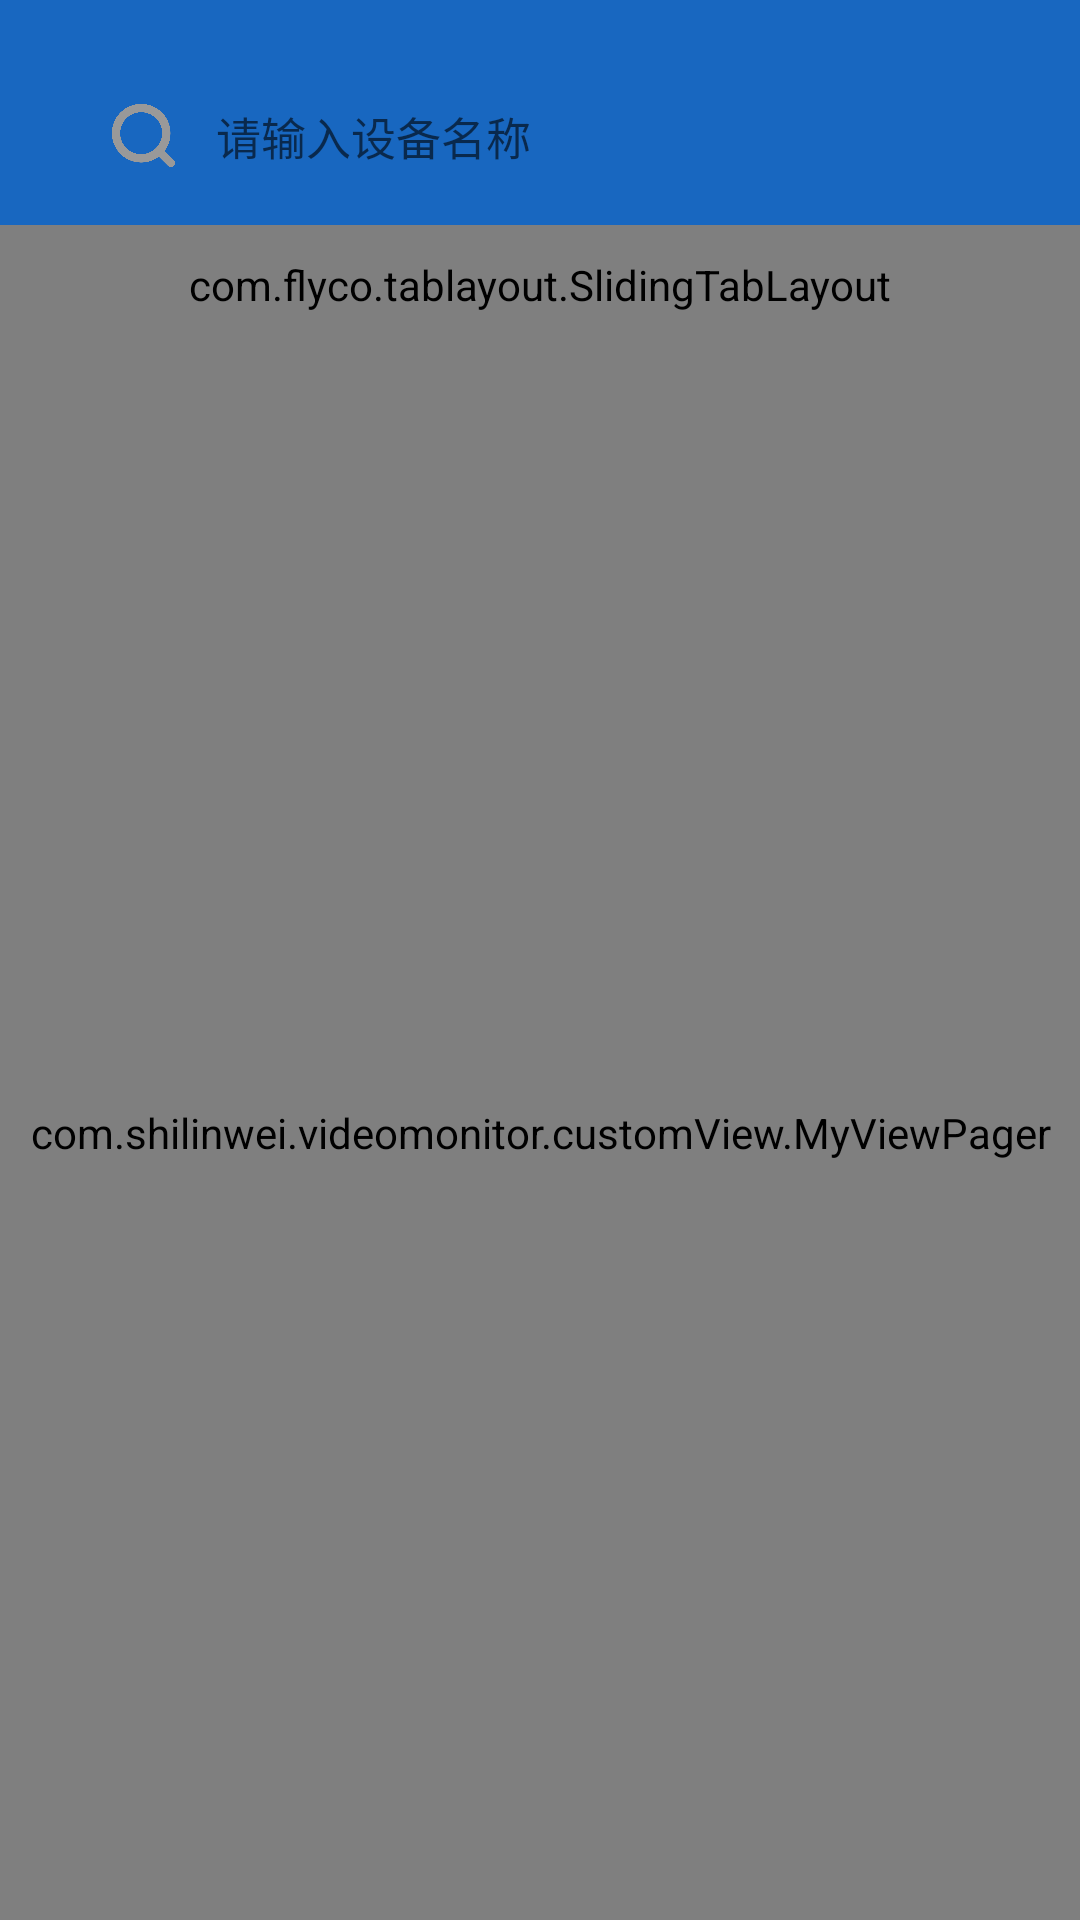

Icon click points for this 1080×1920 phone screenshot, format point (x, y):
search: point (143, 135)
